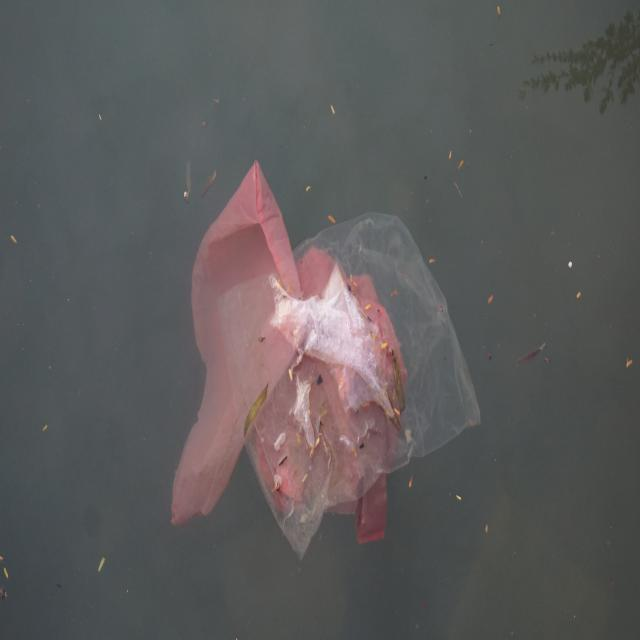Kantong Plastik: (221, 198, 484, 558), (173, 158, 403, 551)
